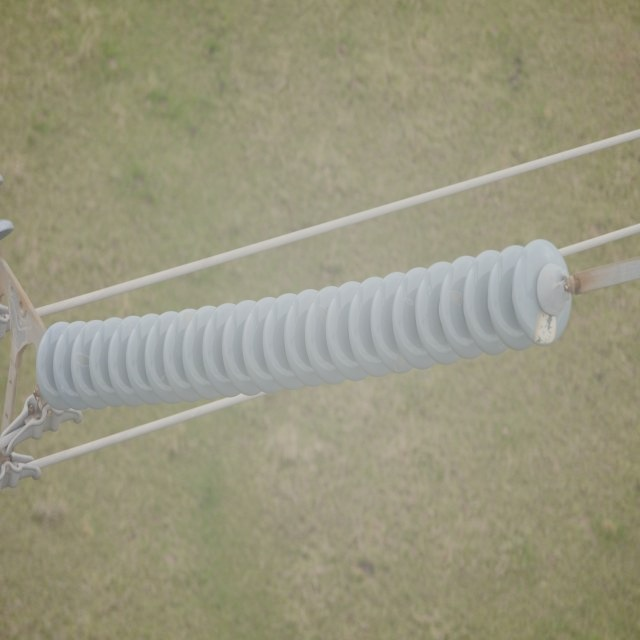insulator: (35, 239, 572, 411)
